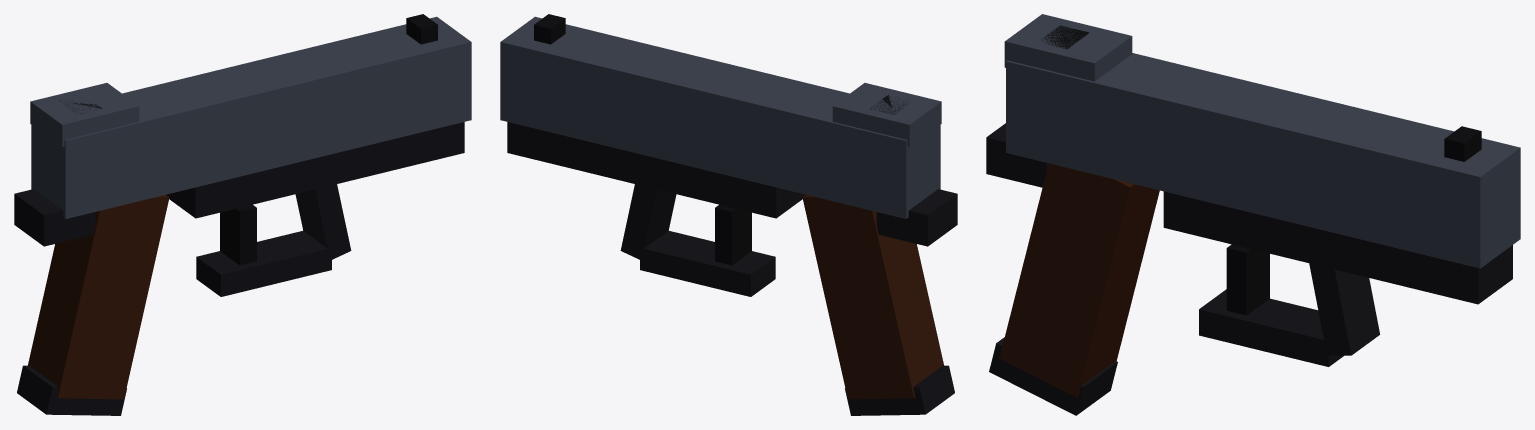
Rendered from SM_Pistol.fbx.
3 renders of one model, left to right at view 1: azimuth 30°, elevation 25°; view 2: azimuth 150°, elevation 25°; view 3: azimuth 330°, elevation 25°, orthographic. The views are drawn at different scales.
Visible parts, largest first — view 1: SM_Pistol; view 2: SM_Pistol; view 3: SM_Pistol.
Boxes of the visible parts, x1,y1,x2,y2 form: SM_Pistol: [14, 14, 471, 415]; SM_Pistol: [500, 14, 957, 415]; SM_Pistol: [986, 14, 1520, 415].
Size of the model in its own units: 19.9 by 13.72 by 2.8.
